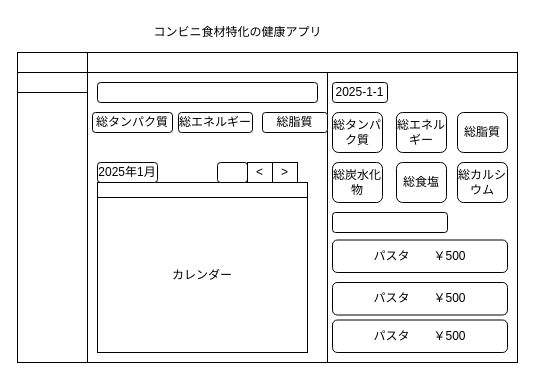
Some shapes in this 535 by 380 pixel diagram are drawn without their labels. Each missing label, with the box of its shape:
Health Convenience: (86, 52, 518, 72)
Home: (16, 72, 88, 92)
今日: (216, 162, 248, 182)
大樹さん(30歳男性): (96, 82, 318, 102)
購入品の内訳追加: (332, 212, 448, 232)
